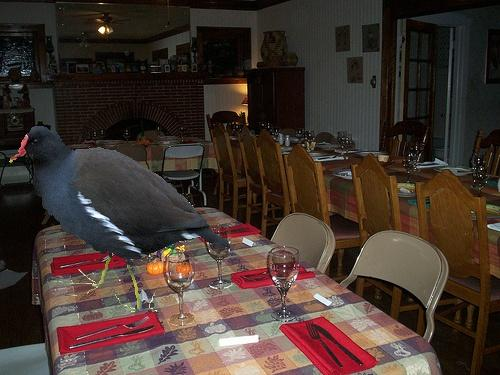tampered: (10, 127, 230, 312)
